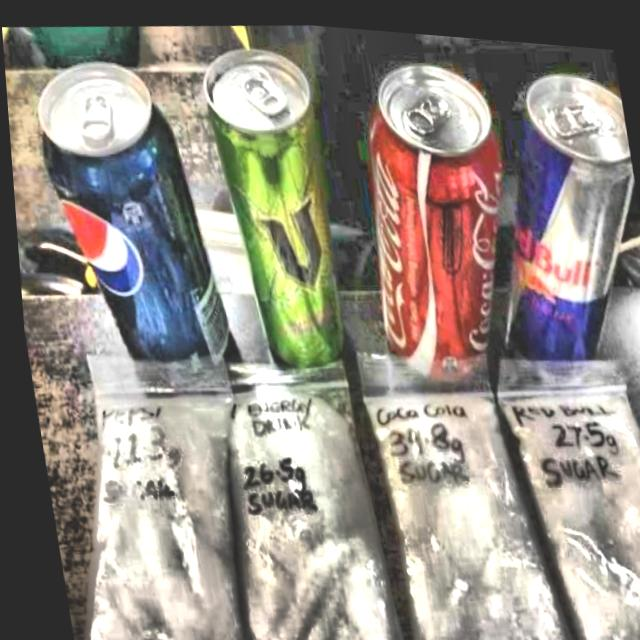Cans: (6, 27, 237, 399), (335, 34, 536, 406), (191, 26, 359, 387), (480, 36, 640, 376)
